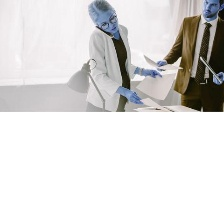book: (133, 71, 174, 102), (141, 51, 183, 73), (132, 102, 202, 114), (196, 54, 223, 85), (138, 93, 172, 112)
phone: (93, 24, 114, 38)
